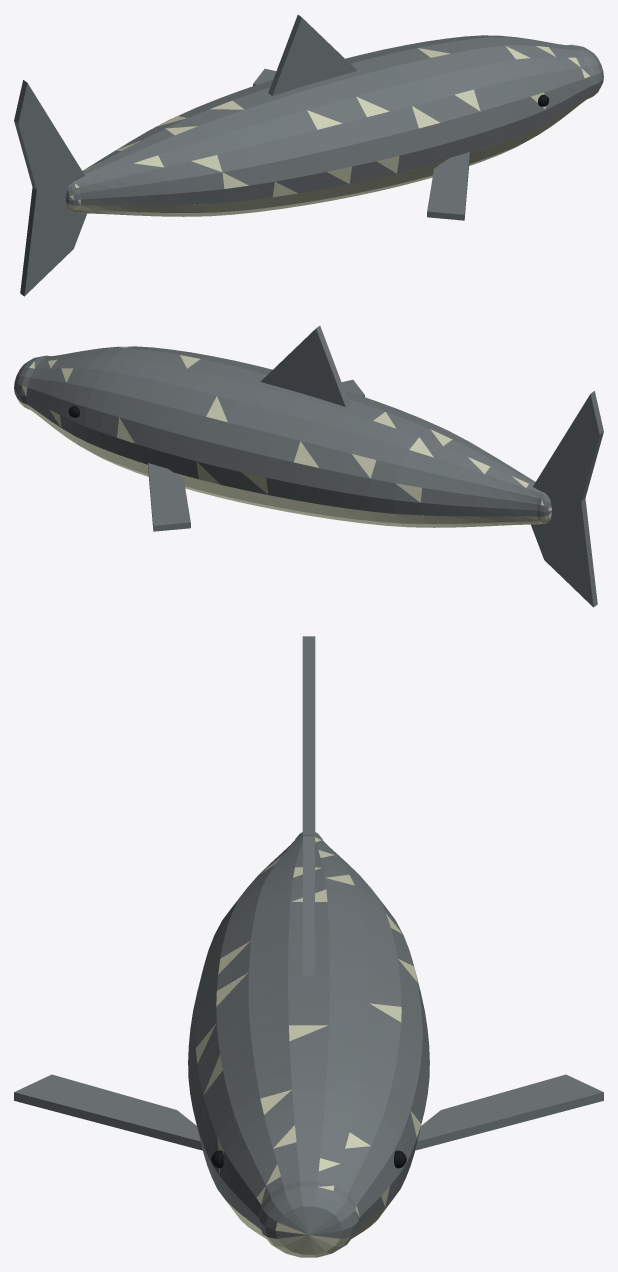
Rendered from whale-shark.dae.
The picture shows the model from 3 angles, top to bottom: view 1: azimuth 30°, elevation 25°; view 2: azimuth 150°, elevation 25°; view 3: azimuth 270°, elevation 25°; orthographic projection. The views are drawn at different scales.
Visible parts, largest first — view 1: part1-node, part2-node; view 2: part1-node, part2-node; view 3: part1-node, part2-node.
Boxes of the visible parts, left/top/right/bottom form: part1-node: left=14, top=15, right=603, bottom=296; part2-node: left=66, top=44, right=600, bottom=216; part1-node: left=14, top=326, right=603, bottom=607; part2-node: left=18, top=346, right=551, bottom=527; part1-node: left=14, top=636, right=603, bottom=1238; part2-node: left=195, top=834, right=421, bottom=1257.
Size of the model in its own units: 10 by 5.94 by 3.5.
